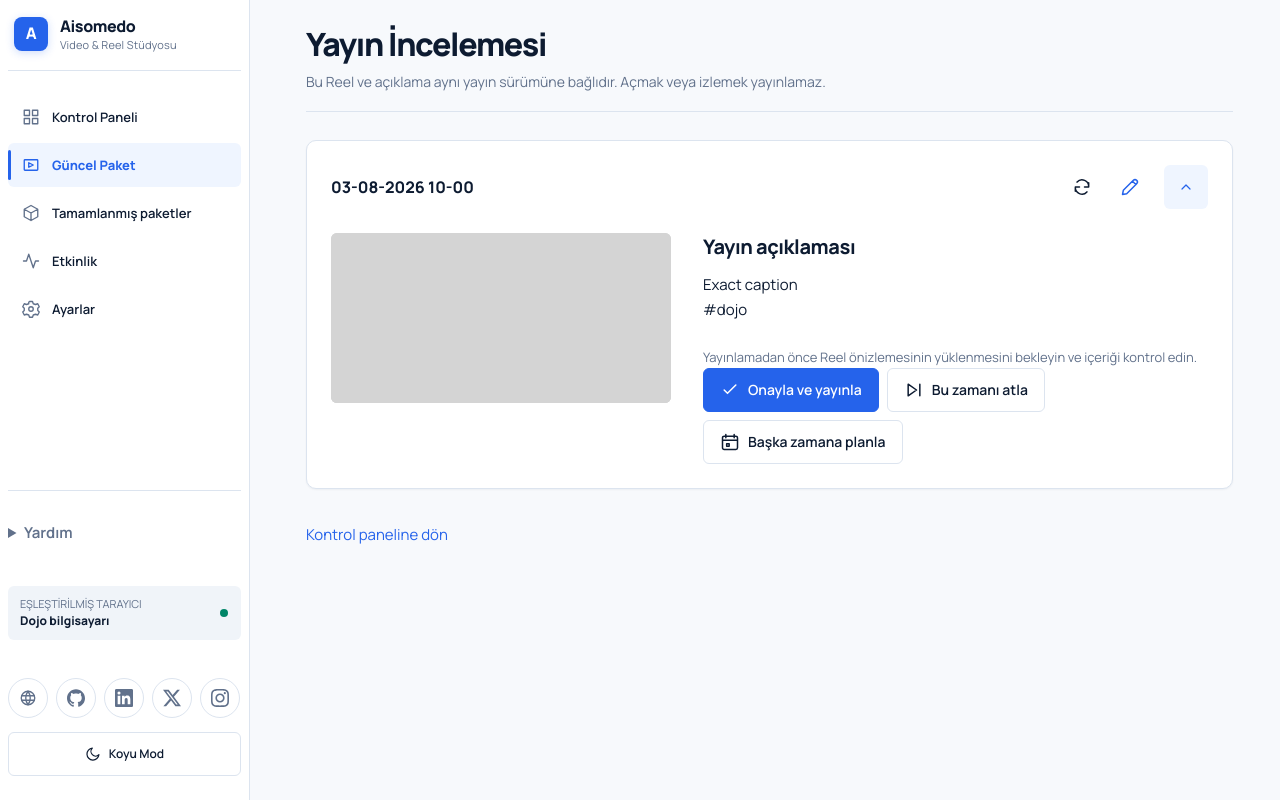
Test: skip shows next regular slot and sends explicit confirmation only after second action
The image size is (1280, 800).
Expected: the text "Exact caption #dojo" is shown, [703,274,798,320]
Expected: the button "Onayla ve yayınla" is enabled, [703,368,879,412]
Click the button "Bu zamanı atla" at (966, 390), box [887,368,1045,412]
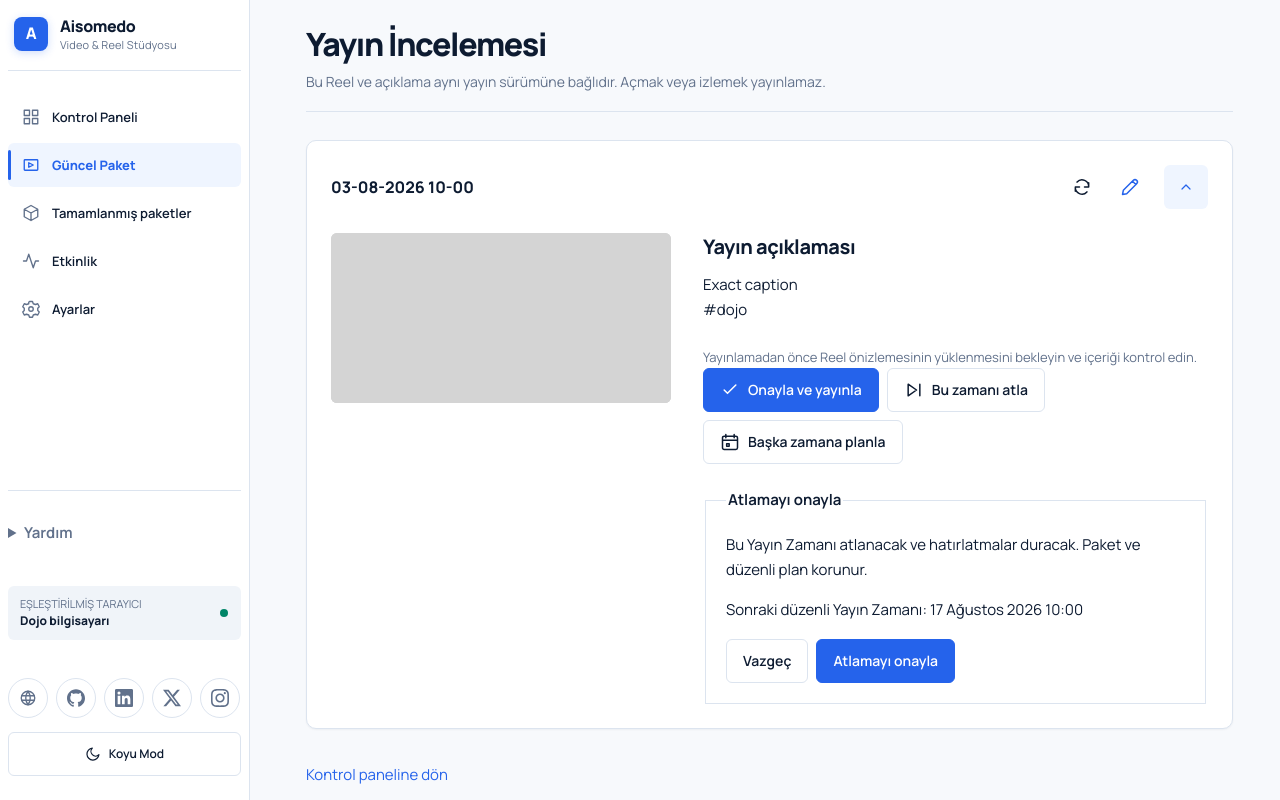
Expected: the text "Sonraki düzenli Yayın Zamanı: 17 Ağustos 2026 10:00" is shown, [726,599,1083,620]
Click the button "Atlamayı onayla" at (886, 661), box [816,639,955,683]
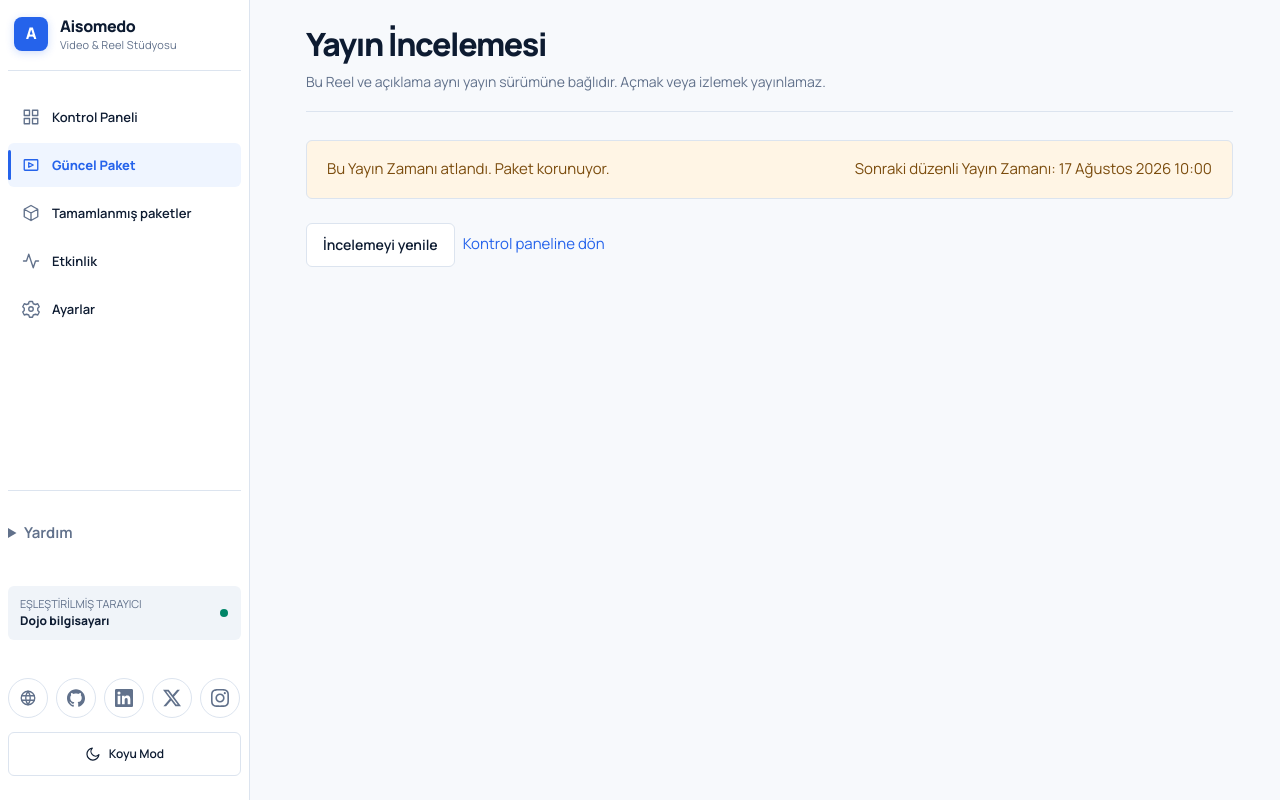
Expected: the text "Bu Yayın Zamanı atlandı. Paket korunuyor." is shown, [327,157,610,182]
